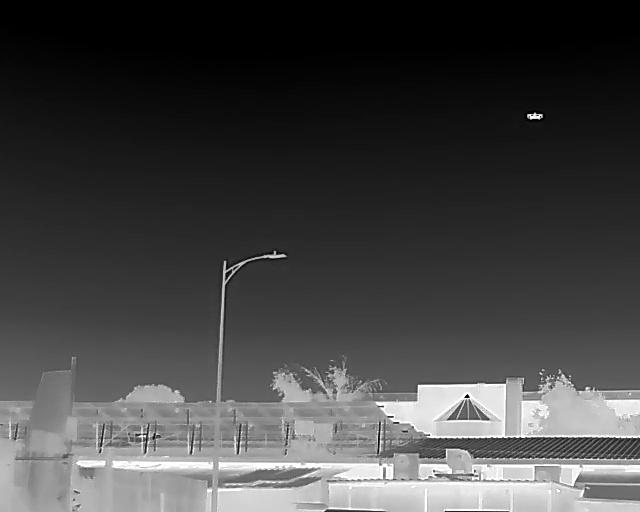fpv-drone: (526, 112, 543, 120)
